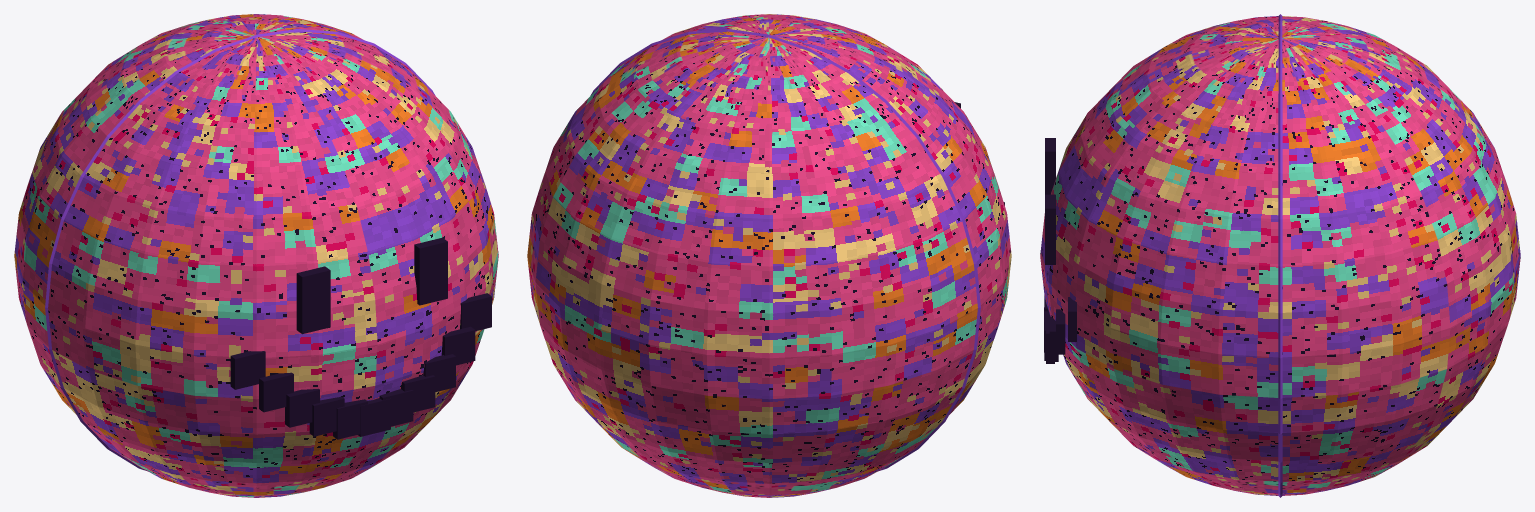
Rendered from smile-orb.glb.
3 views of the same model, side by side, from view 1: azimuth 30°, elevation 25°; view 2: azimuth 150°, elevation 25°; view 3: azimuth 270°, elevation 25° (orthographic).
Parts seen in each view (by area): view 1: smile_orb_root_shell, smile_orb_root_dark; view 2: smile_orb_root_shell; view 3: smile_orb_root_shell, smile_orb_root_dark.
Part boxes in pixels (<box>): smile_orb_root_shell: <box>14,14,498,497</box>; smile_orb_root_dark: <box>230,237,491,439</box>; smile_orb_root_shell: <box>527,14,1011,497</box>; smile_orb_root_shell: <box>1040,14,1520,497</box>; smile_orb_root_dark: <box>1044,138,1076,363</box>.
Size of the model in its own units: 1.82 by 1.82 by 1.81.
2 materials, 1 textured.
